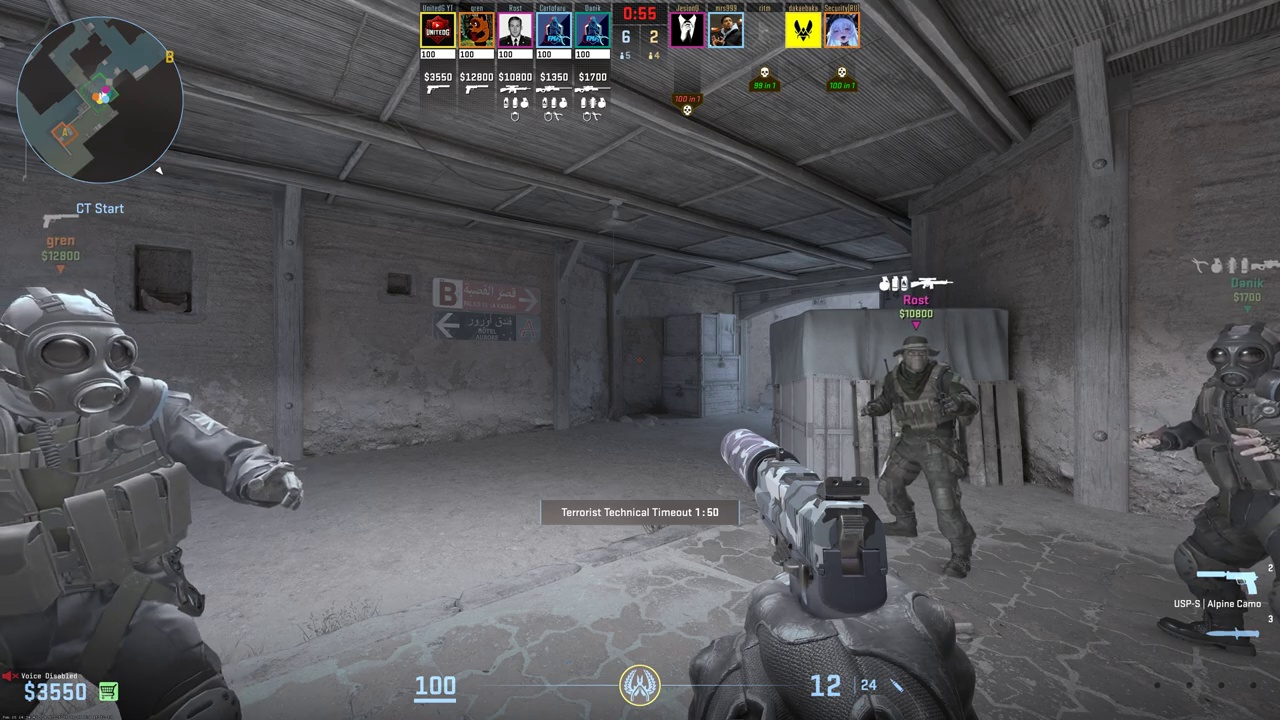CT: (0, 286, 247, 720), (1157, 326, 1280, 643), (873, 336, 978, 577)
